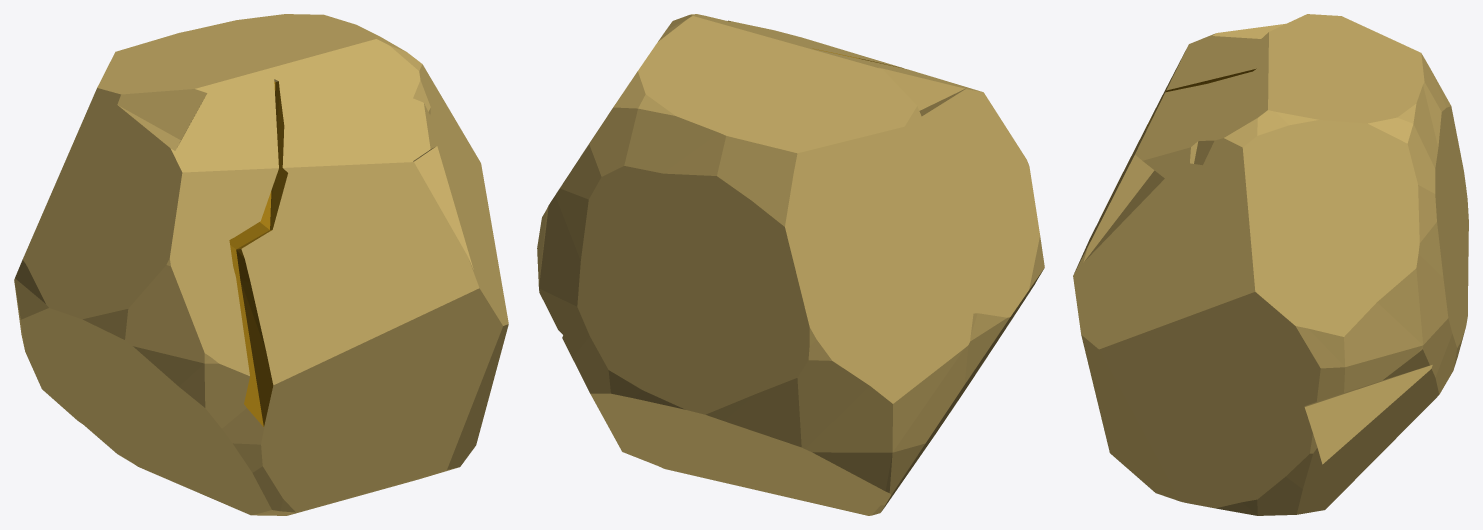
Rendered from Desert_Rock.fbx.
3 views of the same model, side by side, from view 1: azimuth 30°, elevation 25°; view 2: azimuth 150°, elevation 25°; view 3: azimuth 270°, elevation 25° (orthographic). The views are drawn at different scales.
Visible parts, largest first — view 1: Desert Rock 2; view 2: Desert Rock 2; view 3: Desert Rock 2.
Part boxes in pixels (x1,y1,x2,y2): Desert Rock 2: (14,14,508,515); Desert Rock 2: (537,14,1044,515); Desert Rock 2: (1073,14,1468,515).
Bounding box in the file's own units: 454 × 423 × 385.
